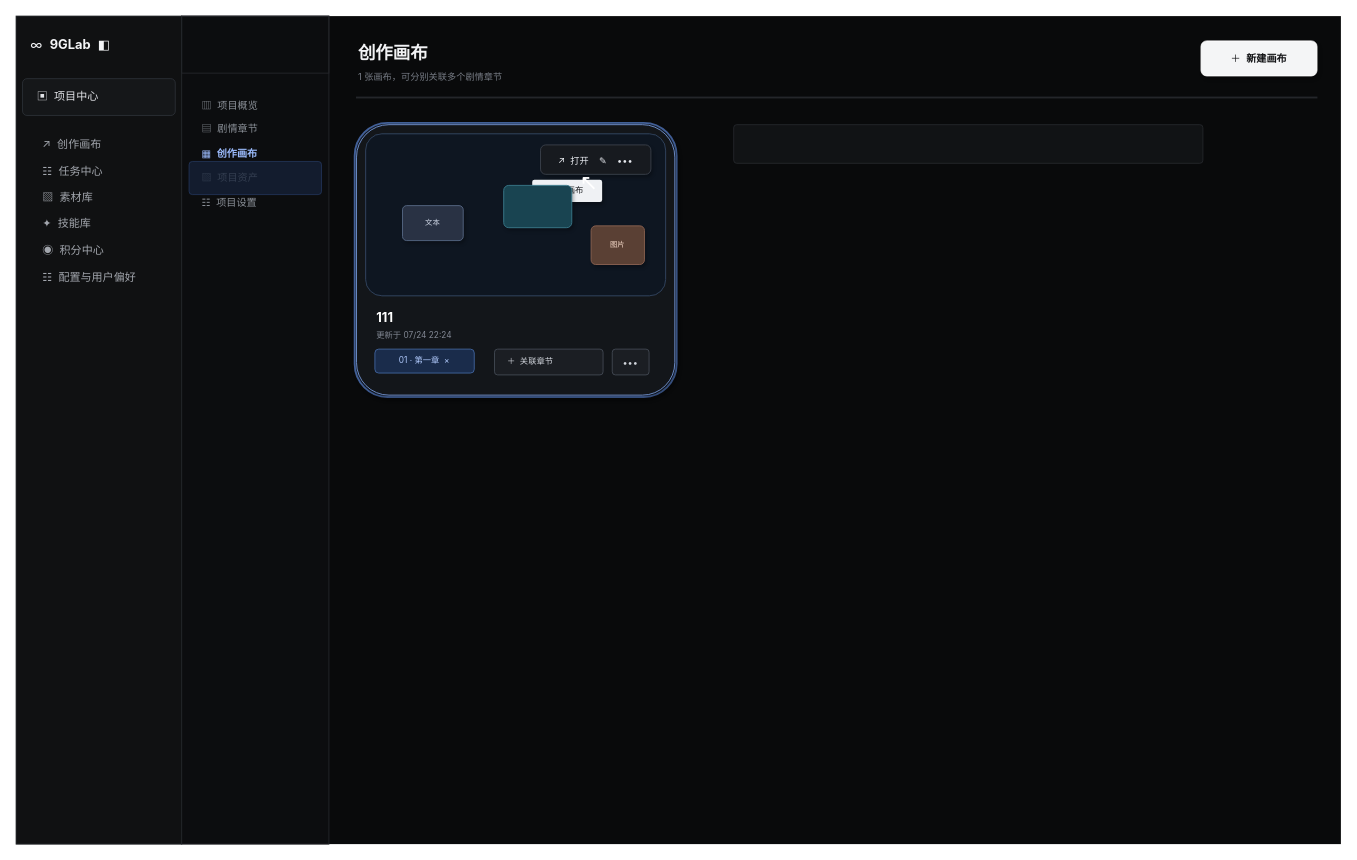
Some shapes in this 1357 by 860 pixel diagram are drawn without their labels. The centre of each missing label's shape, as x and y in pixels:
"‹ ▱ 测试项目 1 ● 进行中" belongs at (255,44).
"分镜" belongs at (538,207).
"悬停反馈：卡片上移 2px，描边变亮，节点表面增强；快捷工具条 160ms 淡入，离开即消失。" belongs at (968,143).
